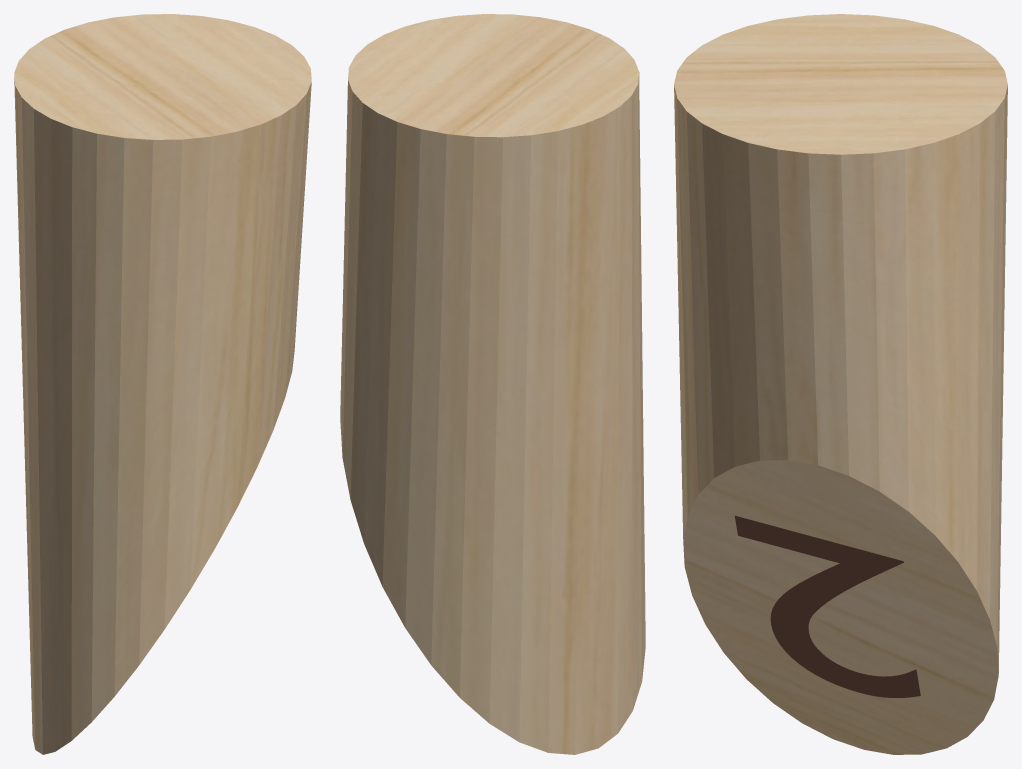
The model's file is pin2.glb.
3 views of the same model, side by side, from view 1: azimuth 30°, elevation 25°; view 2: azimuth 150°, elevation 25°; view 3: azimuth 270°, elevation 25° (orthographic). The views are drawn at different scales.
Visible parts, largest first — view 1: 円柱.001; view 2: 円柱.001; view 3: 円柱.001.
Part boxes in pixels (left/top/right/bottom): 円柱.001: left=14, top=14, right=311, bottom=754; 円柱.001: left=340, top=14, right=645, bottom=754; 円柱.001: left=674, top=14, right=1007, bottom=754.
Size of the model in its own units: 1.16 by 2.79 by 1.16.
2 materials, 1 textured.
